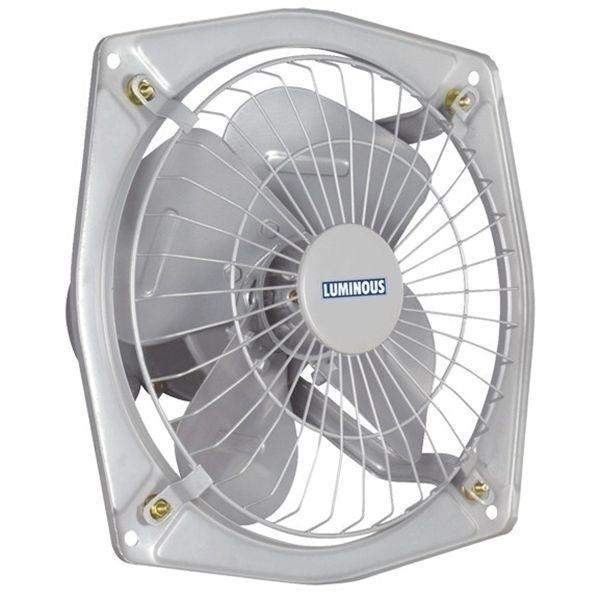fan: (12, 9, 583, 600)
